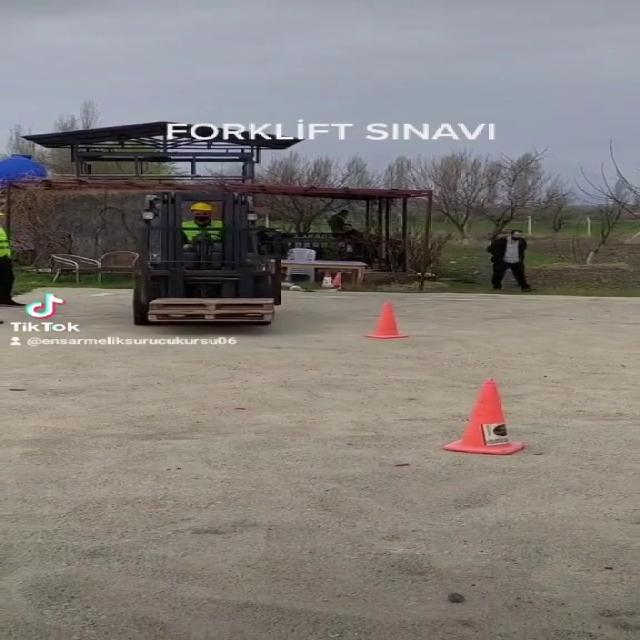ForkLift: (130, 193, 280, 328)
